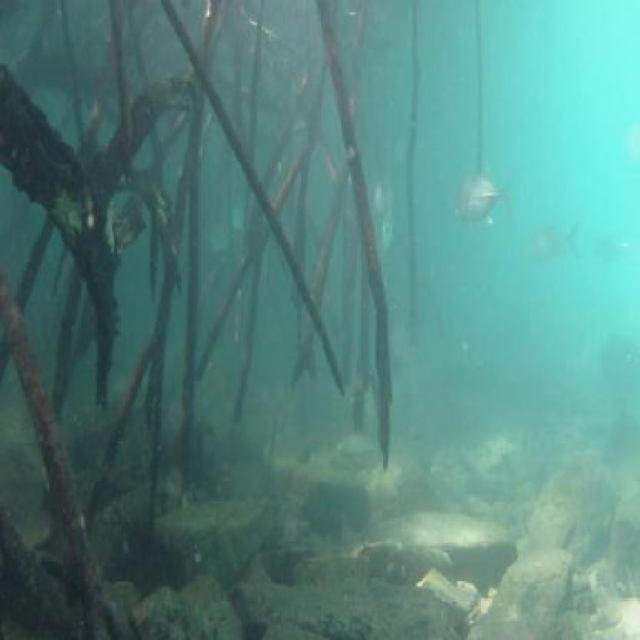Caranx_sexfasciatus_juvenile: (452, 164, 514, 241), (527, 219, 582, 281), (370, 213, 392, 278), (373, 168, 398, 222)
